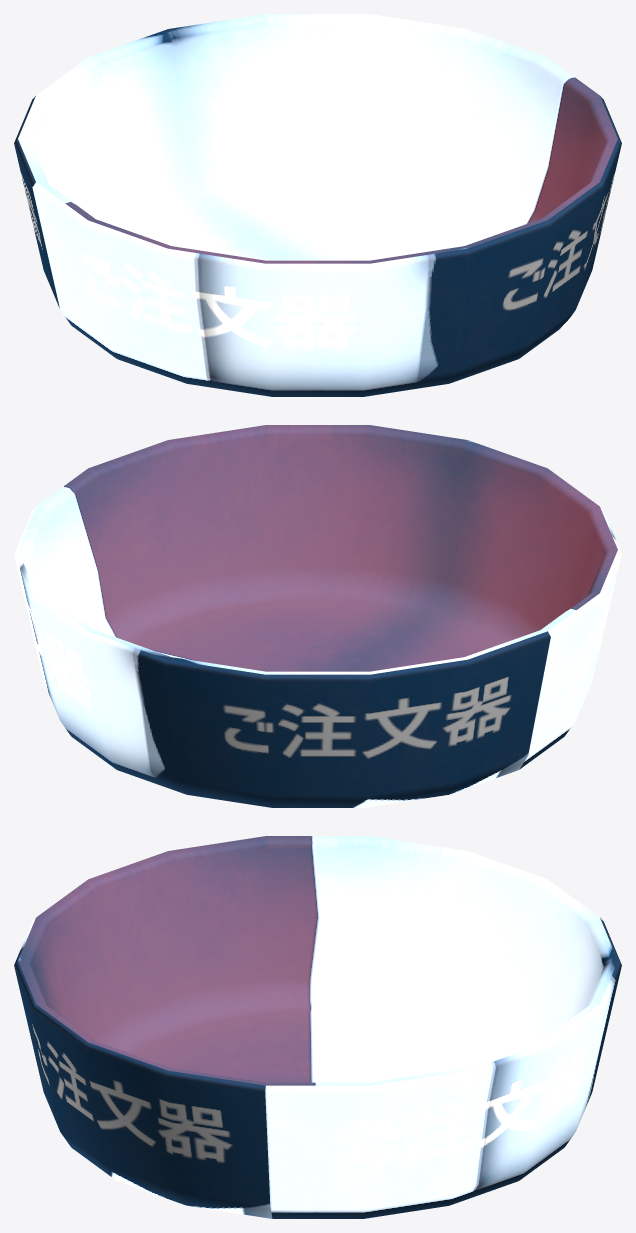
File: SM_OrderBowl_01.fbx
3 renders of one model, top to bottom at view 1: azimuth 30°, elevation 25°; view 2: azimuth 150°, elevation 25°; view 3: azimuth 270°, elevation 25°, orthographic.
Visible parts, largest first — view 1: SM_OrderBowl_01_LOD0; view 2: SM_OrderBowl_01_LOD0; view 3: SM_OrderBowl_01_LOD0.
Boxes of the visible parts, x1=… form: SM_OrderBowl_01_LOD0: x1=14, y1=14, x2=621, y2=396; SM_OrderBowl_01_LOD0: x1=14, y1=425, x2=621, y2=807; SM_OrderBowl_01_LOD0: x1=14, y1=836, x2=621, y2=1218.
Size of the model in its own units: 17.77 by 18.04 by 5.
